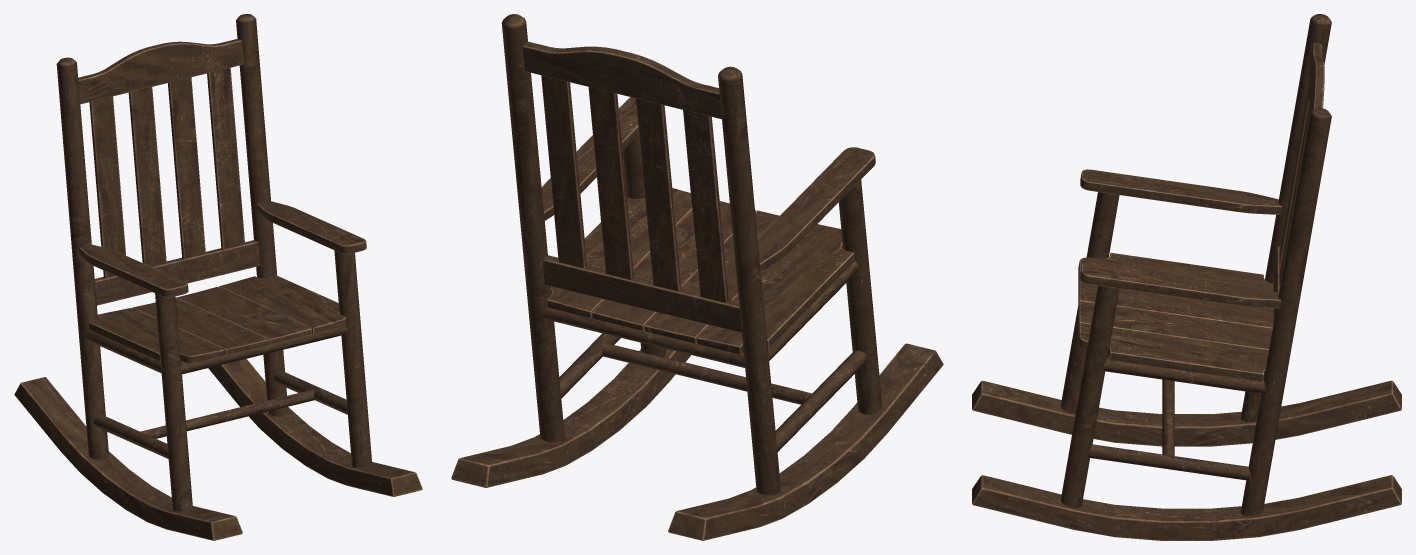
The model's file is Kursi Goyang.fbx.
3 views of the same model, side by side, from view 1: azimuth 30°, elevation 25°; view 2: azimuth 150°, elevation 25°; view 3: azimuth 270°, elevation 25° (orthographic). The views are drawn at different scales.
Visible parts, largest first — view 1: Chair; view 2: Chair; view 3: Chair.
Boxes of the visible parts, <box> form: Chair: <box>14,14,422,540</box>; Chair: <box>451,14,943,540</box>; Chair: <box>972,14,1401,540</box>.
Size of the model in its own units: 47.7 by 85.39 by 78.57.
